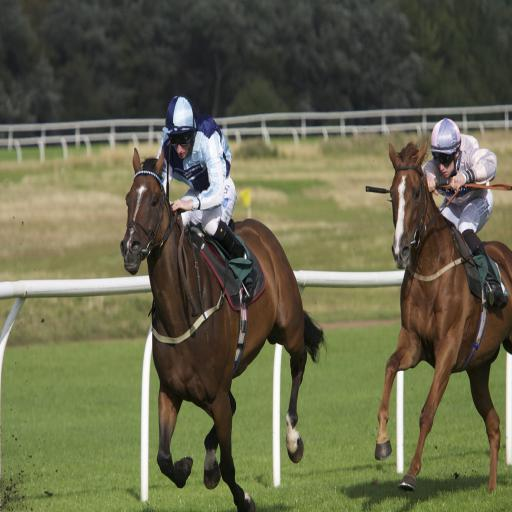horse: (120, 150, 327, 512), (374, 138, 512, 496)
